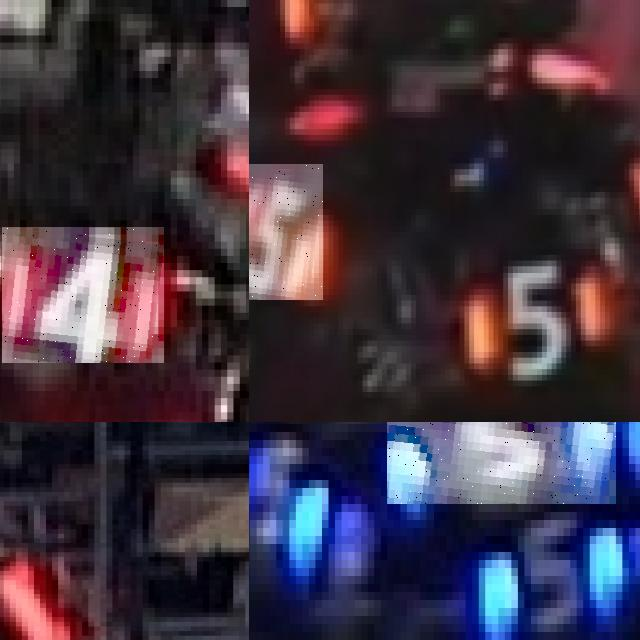B5: (472, 504, 616, 640), (387, 422, 615, 504), (249, 424, 328, 568)
R4: (2, 227, 164, 363)
R5: (464, 232, 605, 375), (249, 163, 323, 300)
